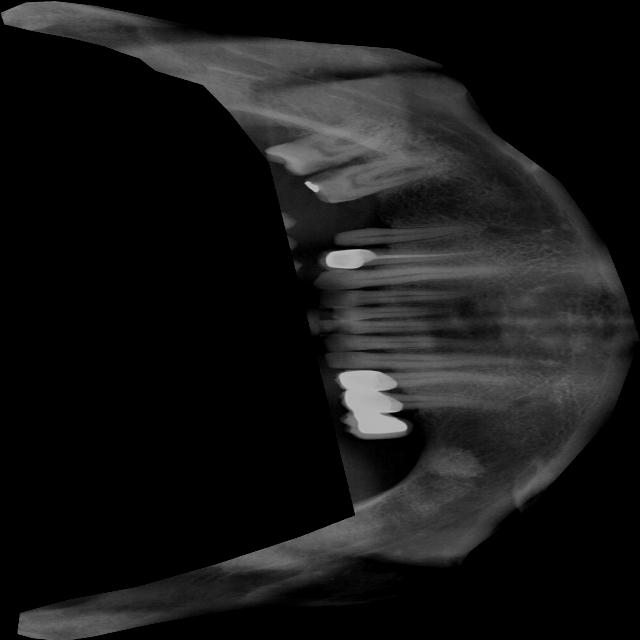mandibula: (0, 0, 640, 640)
